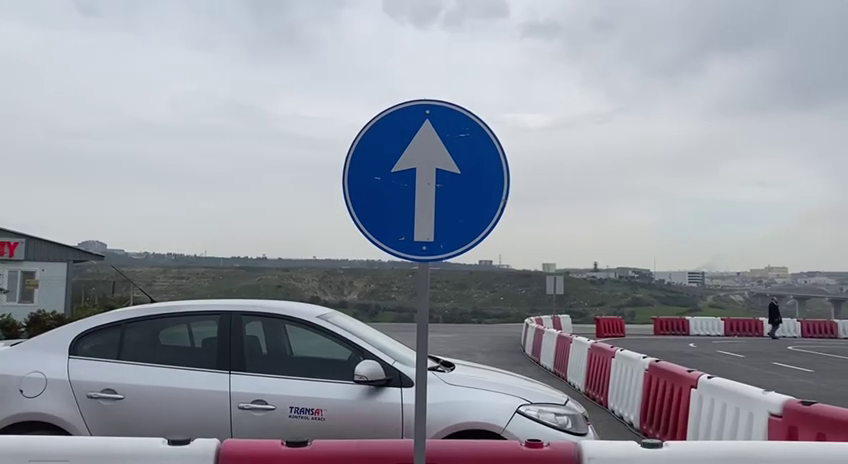forward: (335, 91, 517, 269)
